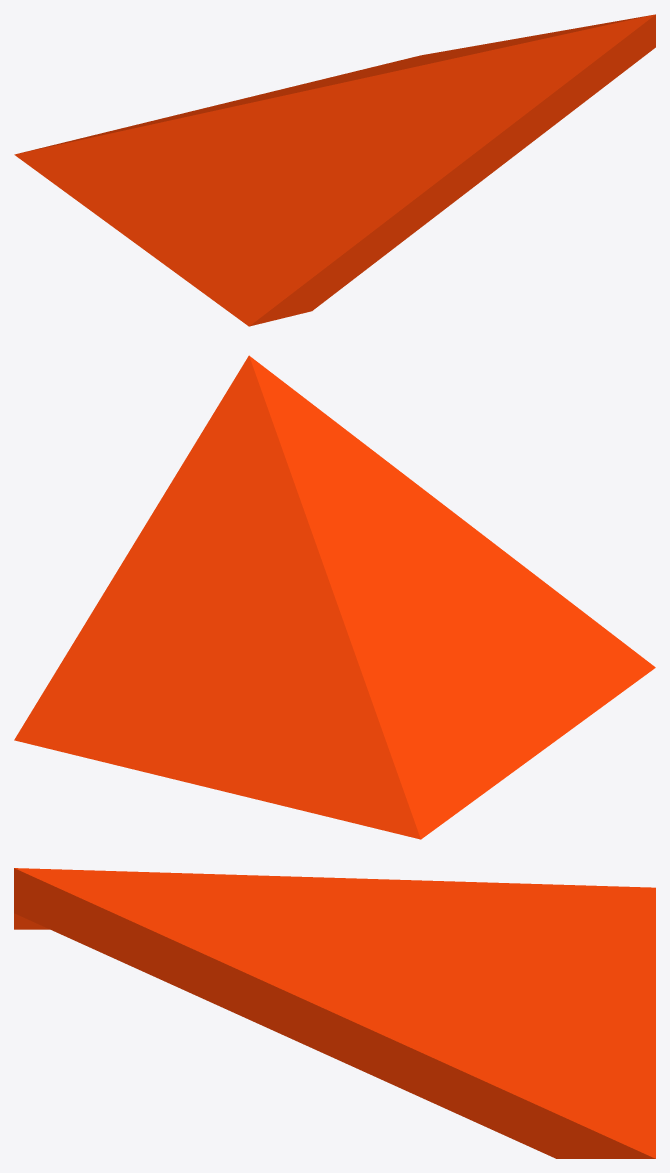
Rendered from roof_small_corner_outer.fbx.
3 views of the same model, one above another, from view 1: azimuth 30°, elevation 25°; view 2: azimuth 150°, elevation 25°; view 3: azimuth 270°, elevation 25° (orthographic). The views are drawn at different scales.
Visible parts, largest first — view 1: Mesh1_sloped_roof_9_1 Model; view 2: Mesh1_sloped_roof_9_1 Model; view 3: Mesh1_sloped_roof_9_1 Model.
Part boxes in pixels (x1,y1,x2,y2): Mesh1_sloped_roof_9_1 Model: [14, 14, 655, 326]; Mesh1_sloped_roof_9_1 Model: [14, 355, 655, 839]; Mesh1_sloped_roof_9_1 Model: [14, 868, 655, 1158].
Size of the model in its own units: 1.29 by 0.6447 by 1.29.
